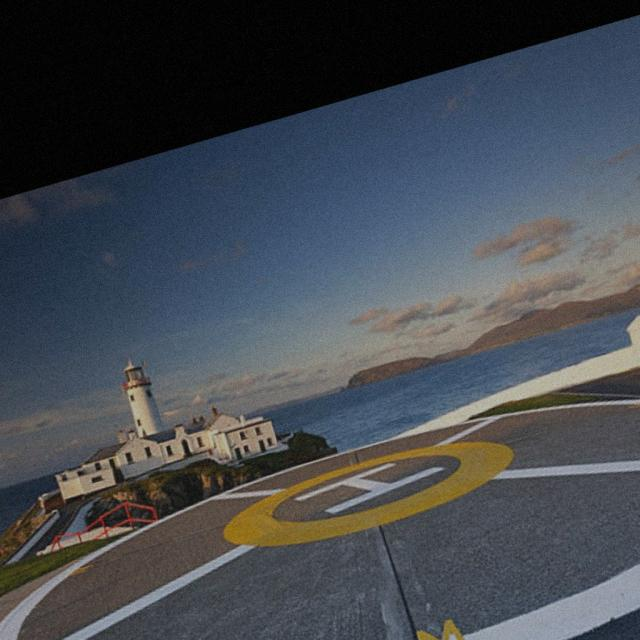helipad: (216, 430, 518, 555)
